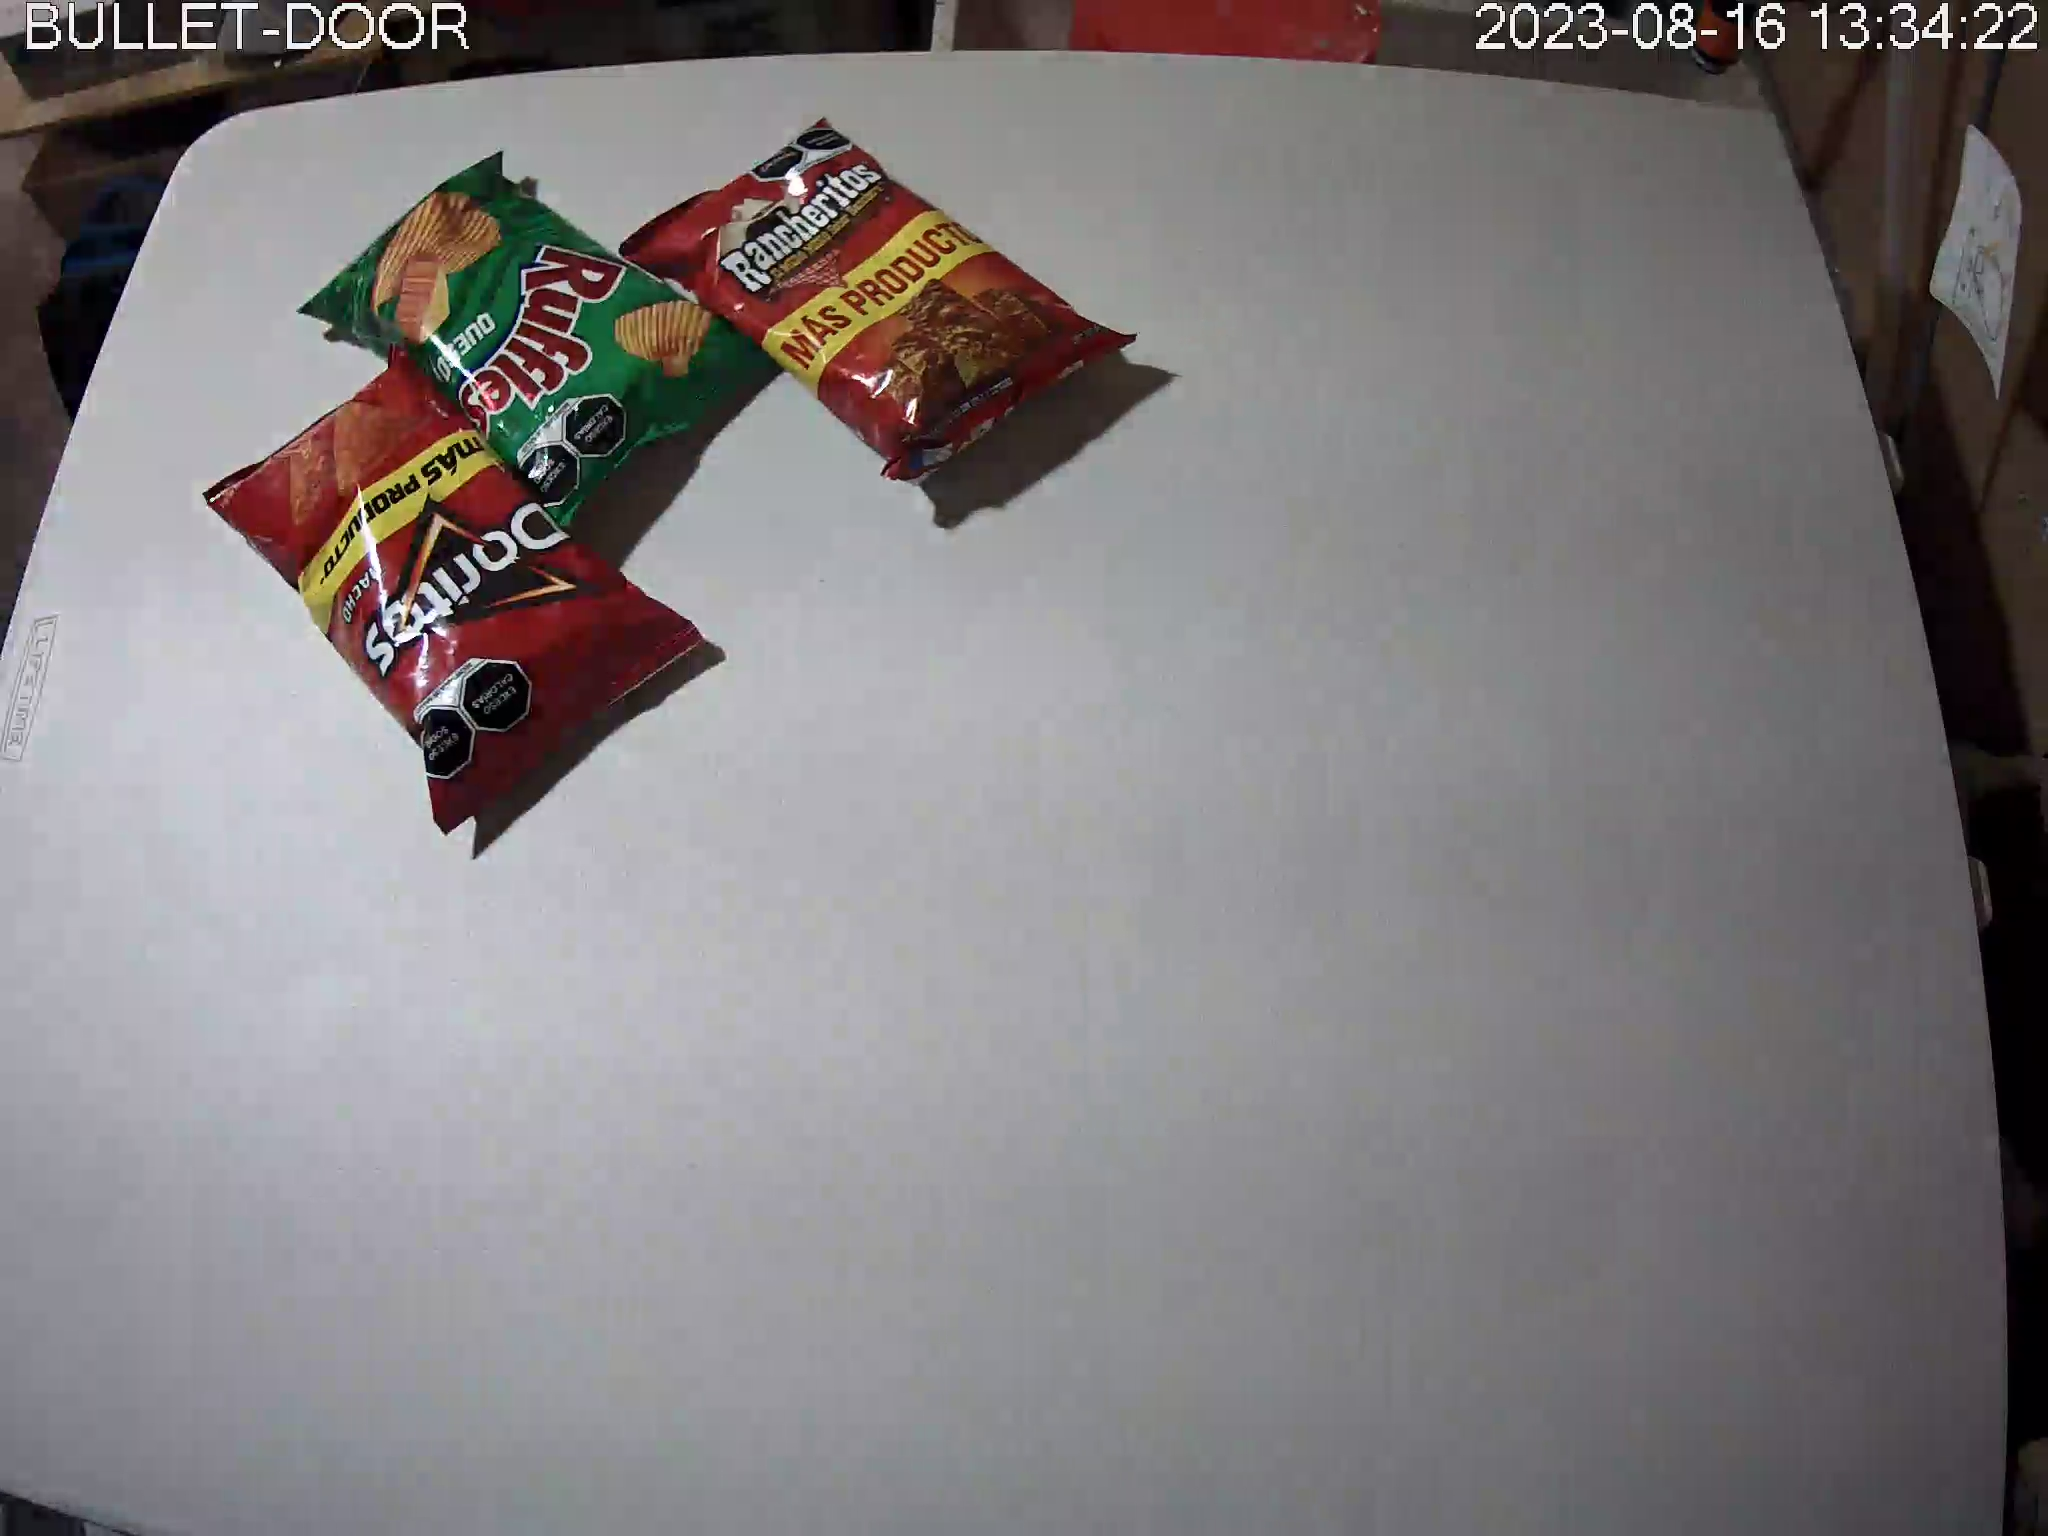DoritosN_61_F: (200, 344, 710, 836)
Rancheritos_58_F: (618, 116, 1137, 486)
RufflesQ_48_F: (297, 152, 768, 532)
